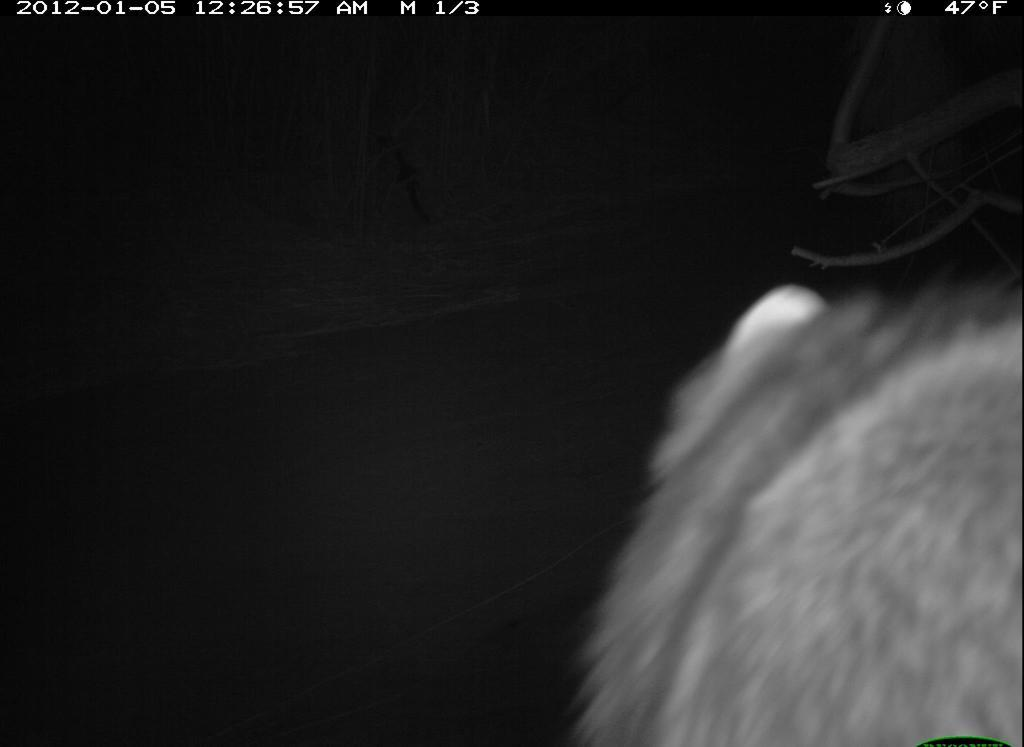raccoon: (562, 231, 1021, 747)
